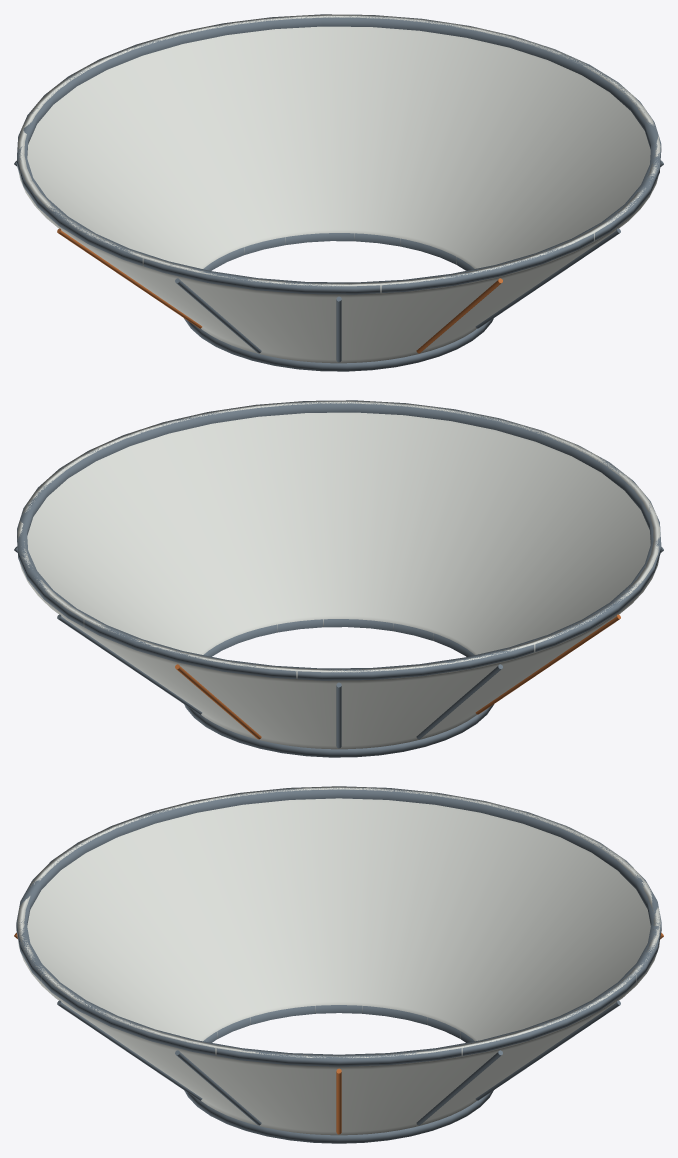
Rendered from jugre_adapter_250_510.glb.
3 views of the same model, one above another, from view 1: azimuth 30°, elevation 25°; view 2: azimuth 150°, elevation 25°; view 3: azimuth 270°, elevation 25° (orthographic).
Parts seen in each view (by area): view 1: jugre_adapter_250_510.mesh_Pale_thermal_blanket, jugre_adapter_250_510.mesh_Machined_steel, jugre_adapter_250_510.mesh_Spray-on_insulation; view 2: jugre_adapter_250_510.mesh_Pale_thermal_blanket, jugre_adapter_250_510.mesh_Machined_steel, jugre_adapter_250_510.mesh_Spray-on_insulation; view 3: jugre_adapter_250_510.mesh_Pale_thermal_blanket, jugre_adapter_250_510.mesh_Machined_steel.
Part boxes in pixels (x1,y1,x2,y2): jugre_adapter_250_510.mesh_Pale_thermal_blanket: (17, 14, 660, 363); jugre_adapter_250_510.mesh_Machined_steel: (14, 14, 663, 371); jugre_adapter_250_510.mesh_Spray-on_insulation: (57, 228, 502, 353); jugre_adapter_250_510.mesh_Pale_thermal_blanket: (17, 400, 660, 749); jugre_adapter_250_510.mesh_Machined_steel: (14, 400, 663, 757); jugre_adapter_250_510.mesh_Spray-on_insulation: (175, 614, 620, 739); jugre_adapter_250_510.mesh_Pale_thermal_blanket: (17, 786, 660, 1135); jugre_adapter_250_510.mesh_Machined_steel: (16, 786, 661, 1143).
Size of the model in its own units: 5.15 by 1.35 by 5.15.
